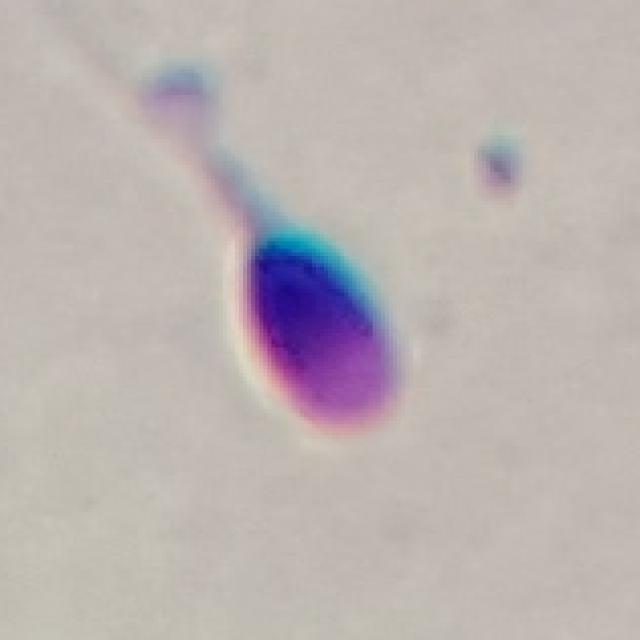normal sperm: (190, 136, 406, 434)
